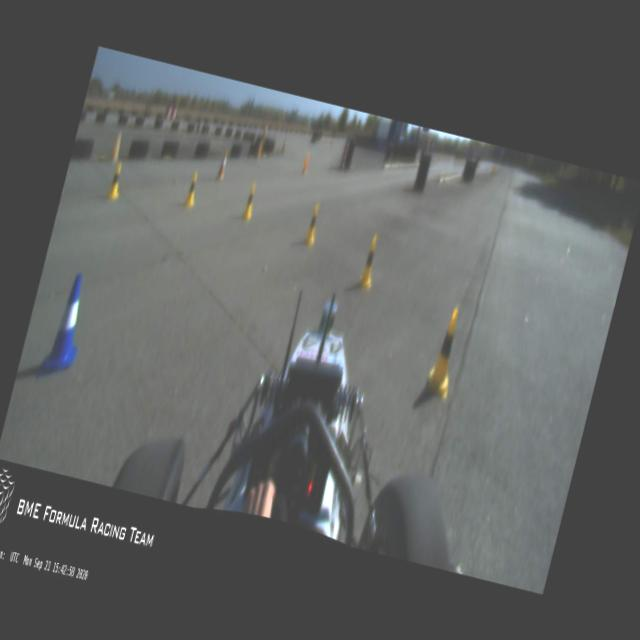blue_cone: (39, 270, 95, 380)
orange_cone: (217, 148, 230, 180)
unknown_cone: (110, 132, 124, 163), (301, 153, 310, 175), (256, 138, 264, 158), (262, 121, 268, 139), (281, 137, 287, 153)
yellow_cone: (423, 305, 467, 399), (356, 234, 382, 291), (105, 160, 126, 202), (302, 204, 322, 248), (182, 170, 201, 207), (240, 182, 258, 220)
